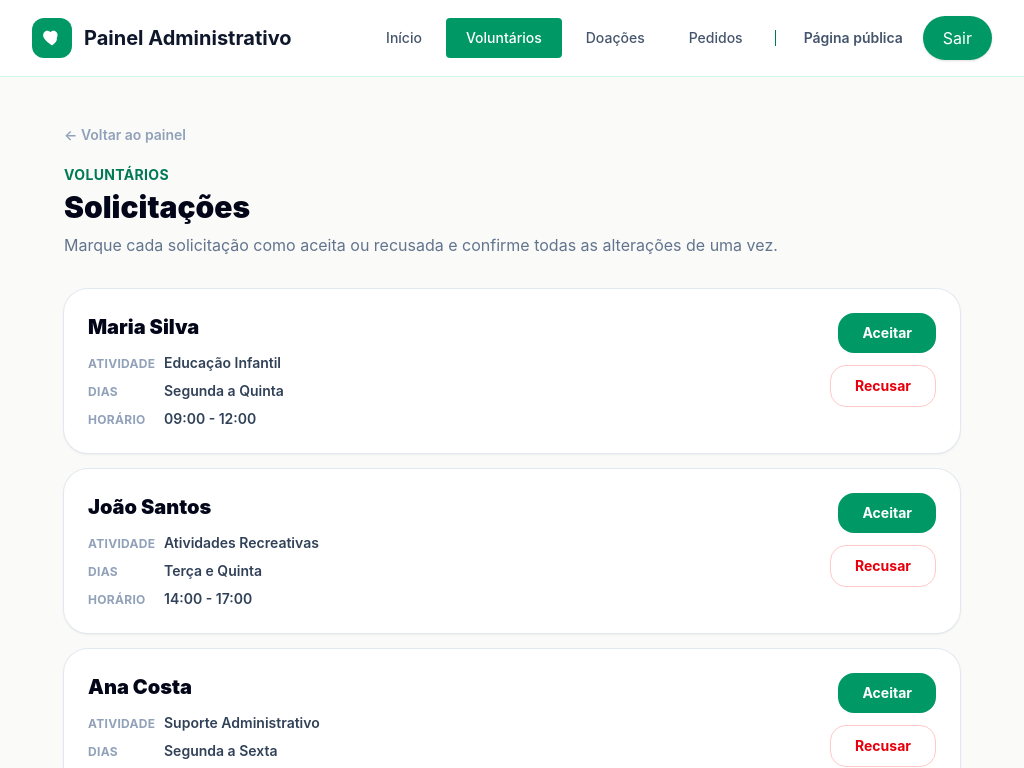
Test case: SolicitacoesVoluntariosPage › Aceitar solicitação › exibe badge "✓ Aceito" após os 800 ms de processamento
Click the button "Aceitar" in the row of "Maria Silva": (887, 333) [838, 313, 936, 353]
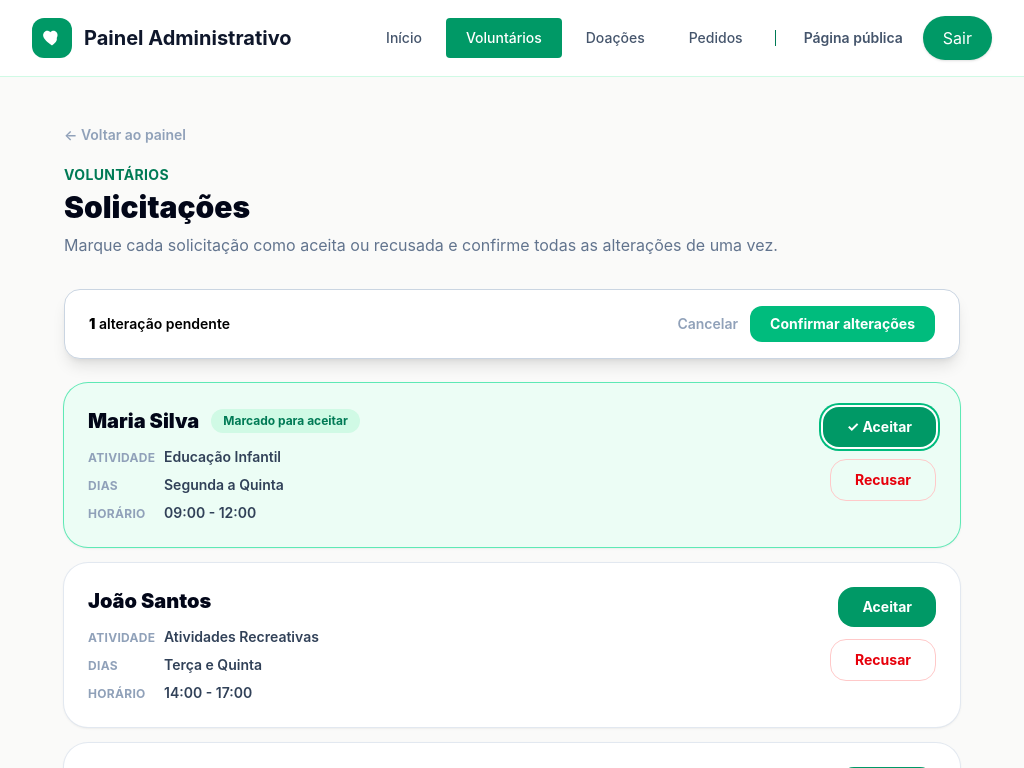
Click the button "Confirmar alterações": (842, 324) [750, 306, 935, 342]
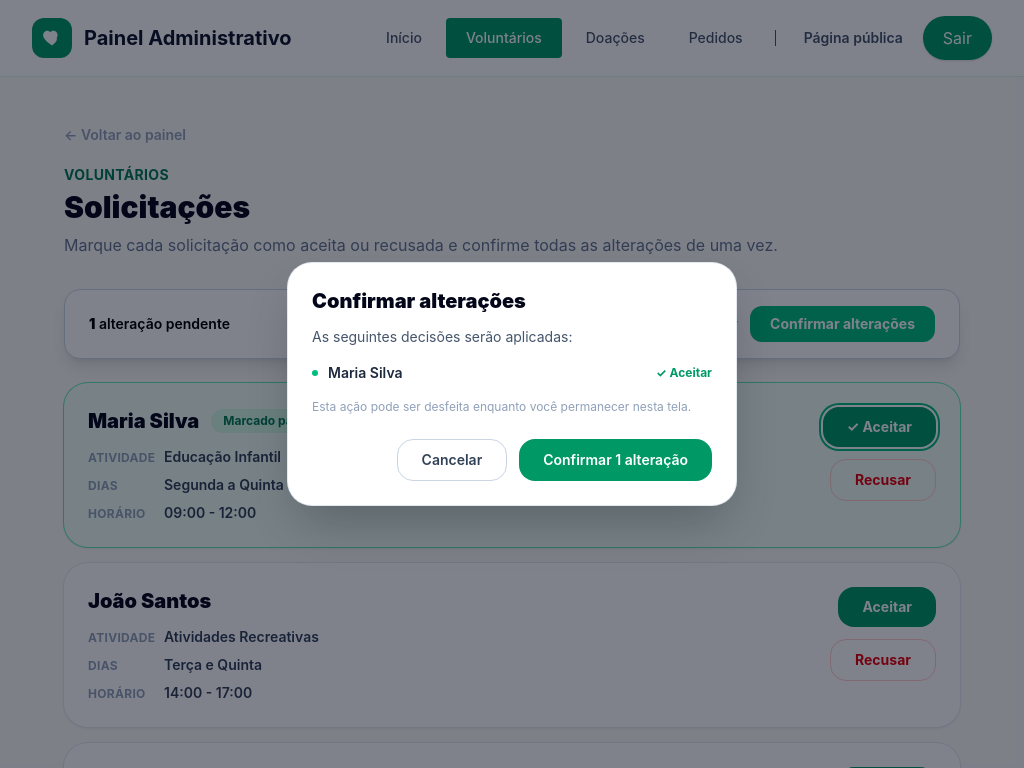
Click the button "Confirmar 1 alteração": (616, 460) [519, 439, 712, 481]
Wait 800 ms
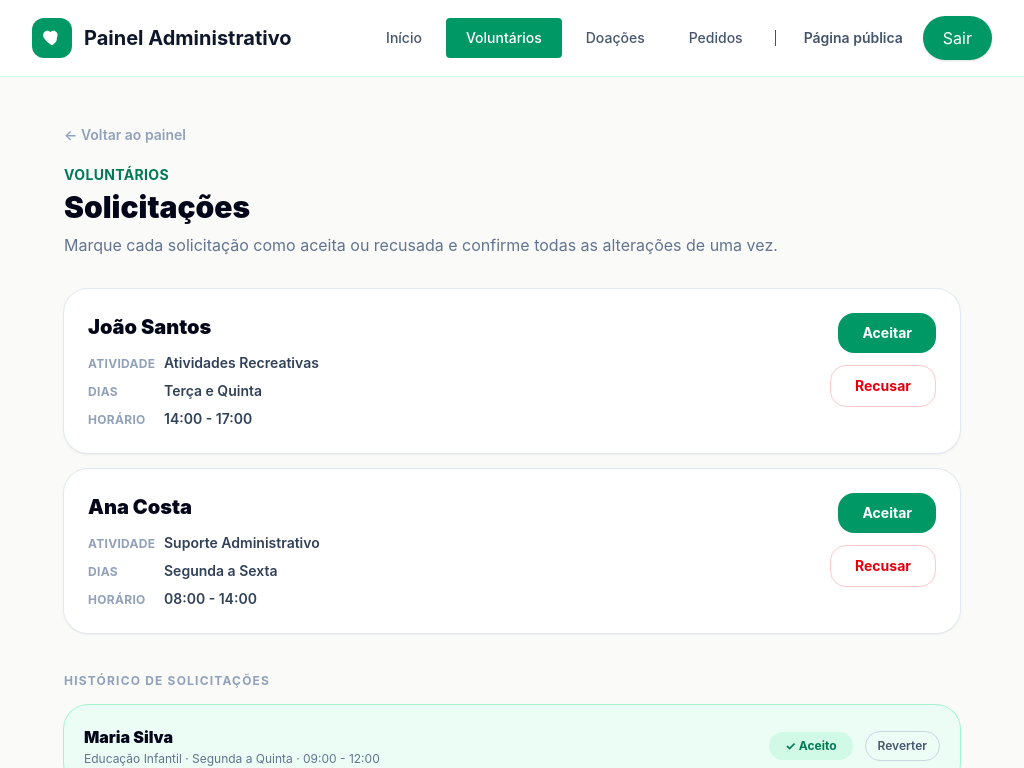
Now the text "✓ Aceito" is shown, box [769, 732, 852, 760]
